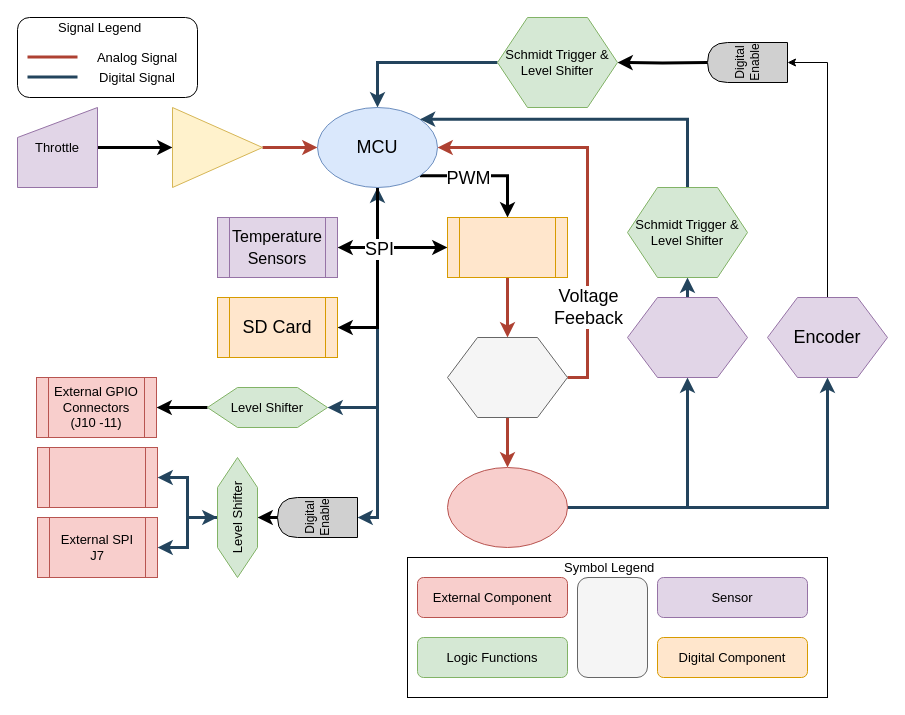
Some shapes in this 905 by 715 pixel diagram are drawn without their labels. Here are the shapes that lost their labels. From the top down, the box of each, then its label:
(172, 106, 262, 188): Noise Filter
(446, 216, 568, 278): Gate Driver
(626, 296, 748, 378): Hall effect sensors
(446, 336, 568, 418): Mosfet Bridge
(36, 446, 158, 508): External SPI J6
(446, 466, 568, 548): Motor
(576, 576, 648, 678): Digital control
